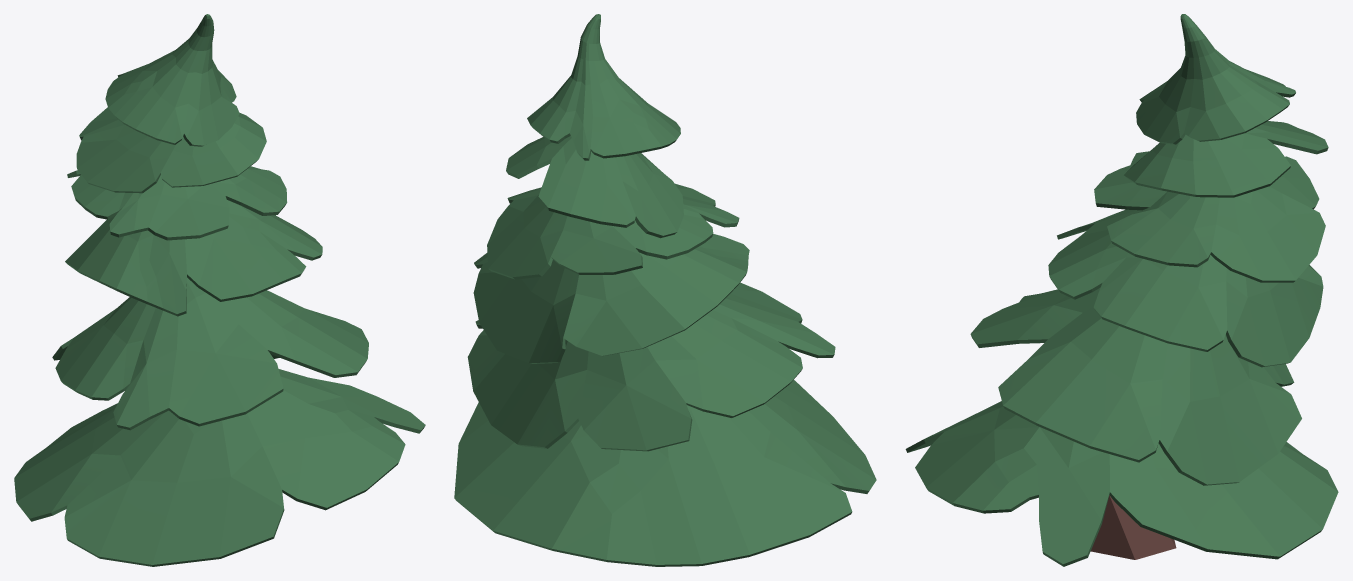
The model's file is lonely_pine_hero.glb.
3 renders of one model, left to right at view 1: azimuth 30°, elevation 25°; view 2: azimuth 150°, elevation 25°; view 3: azimuth 270°, elevation 25°, orthographic. The views are drawn at different scales.
Visible parts, largest first — view 1: PineTree_3; view 2: PineTree_3; view 3: PineTree_3.
Boxes of the visible parts, x1,y1,x2,y2 form: PineTree_3: (14,14,425,566); PineTree_3: (454,14,876,566); PineTree_3: (905,14,1338,566).
Bounding box in the file's own units: 12.36 × 15.2 × 11.15.
